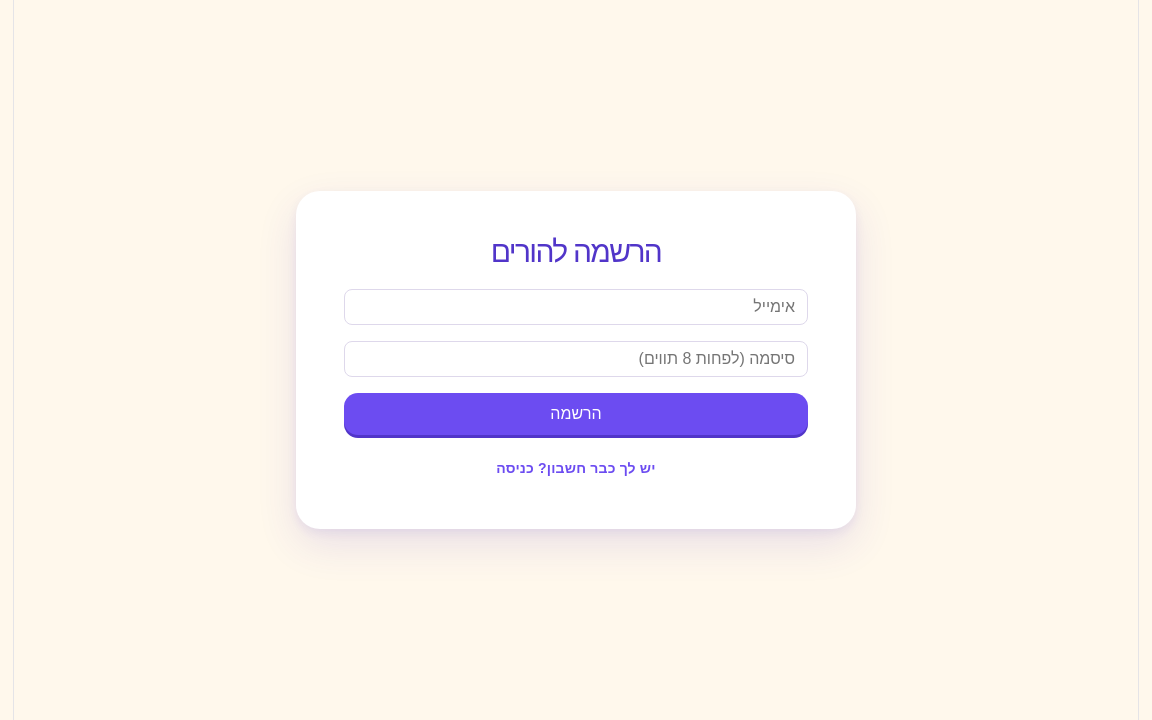
Test: RegisterPage › shows a generic message for any other failure
In the field labelled "אימייל": (576,307) [344,289,808,325], type "parent@example.com"
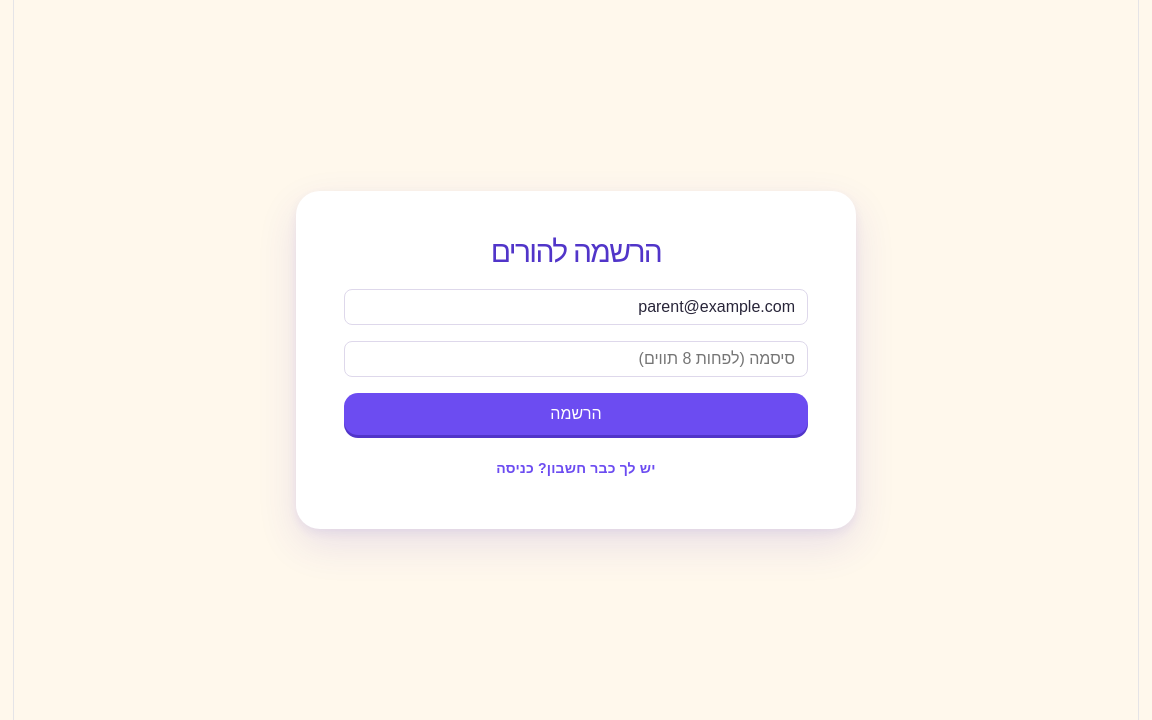
In the password field labelled "סיסמה": (576,359) [344,341,808,377], type "correct-horse"
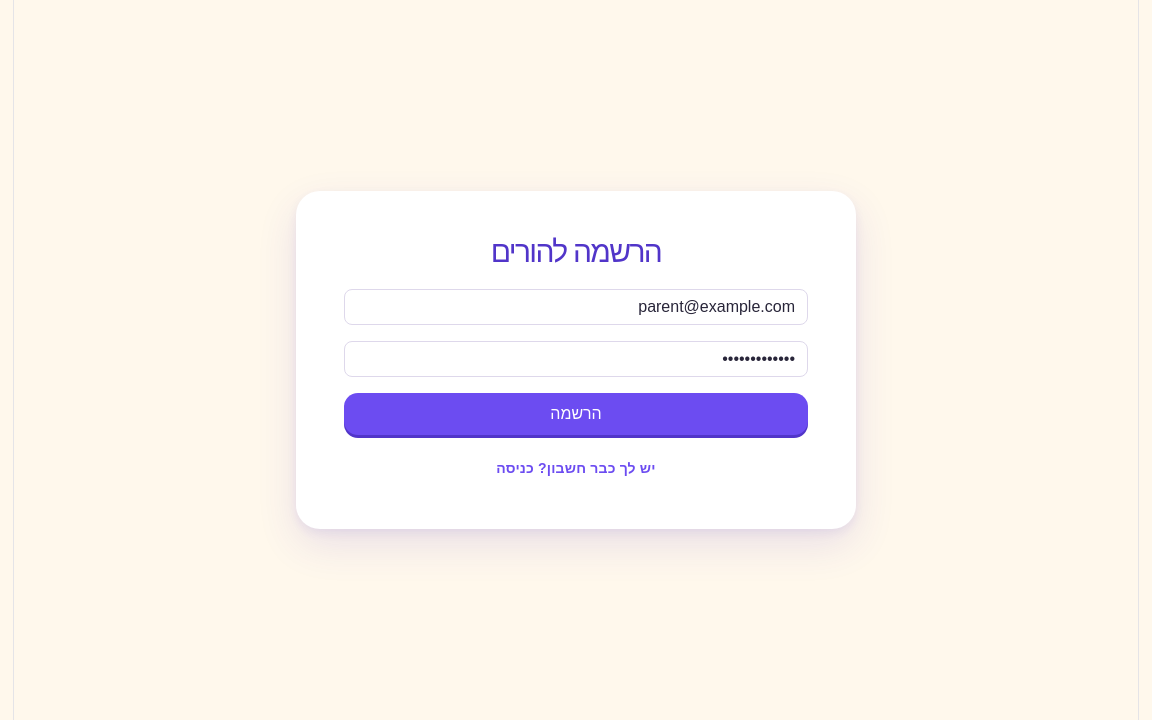
Click the button "הרשמה": (576,414) [344,393,808,435]
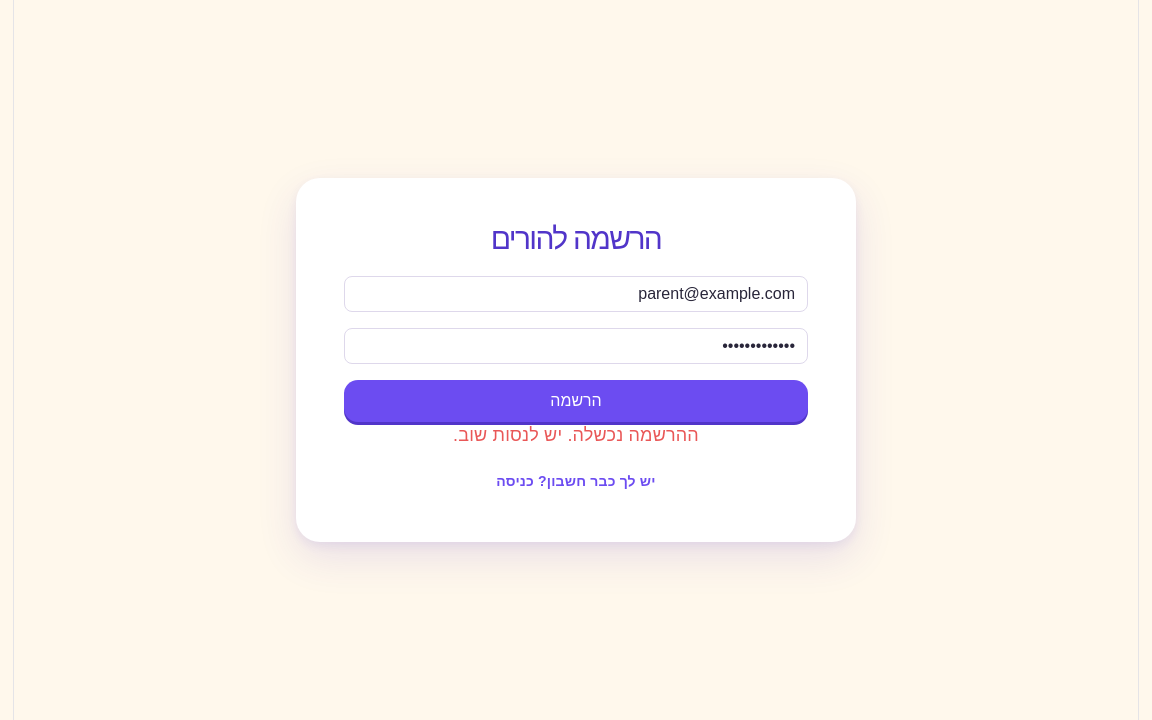
Check: the text "ההרשמה נכשלה. יש לנסות שוב." is shown, box [453,425,699,445]
